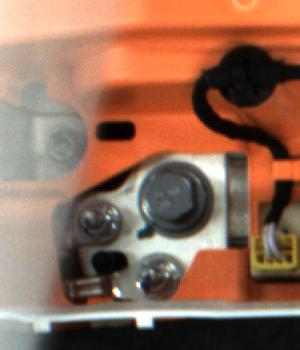nut_b: (135, 147, 222, 243)
